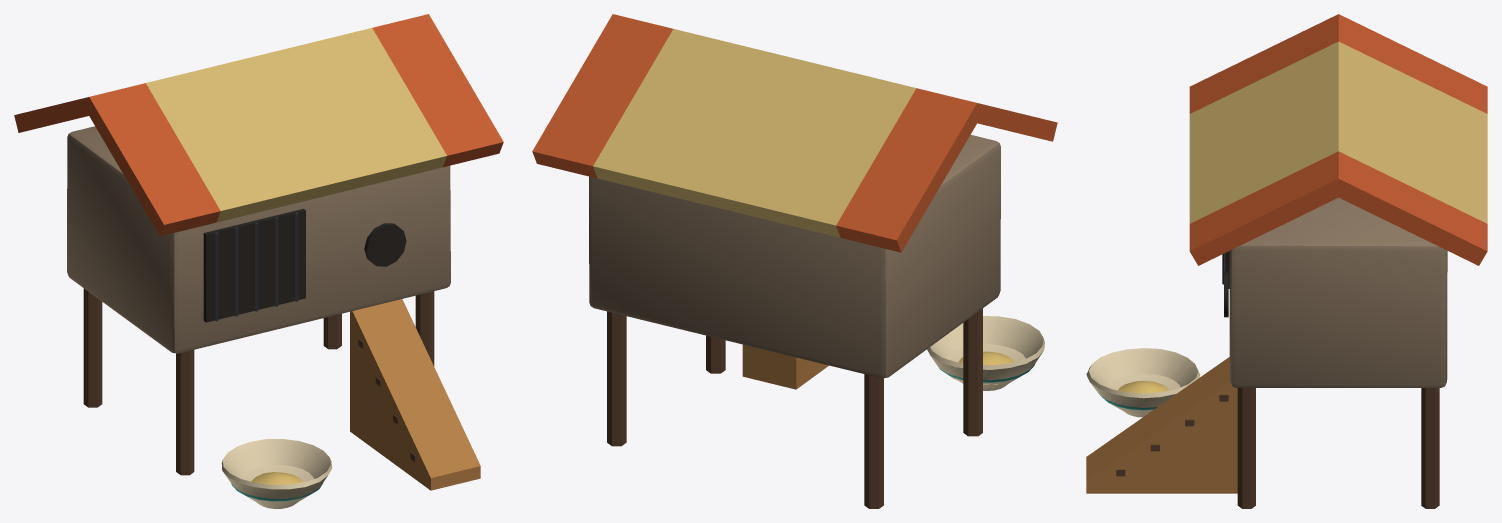
File: deco_critter_hutch.fbx
The picture shows the model from 3 angles, left to right: view 1: azimuth 30°, elevation 25°; view 2: azimuth 150°, elevation 25°; view 3: azimuth 270°, elevation 25°; orthographic projection. The views are drawn at different scales.
Parts seen in each view (by area): view 1: CritterHutch_Roof, CritterHutch_Box, CritterHutch_Ramp, CritterHutch_Legs, CritterHutch_FeedBowl; view 2: CritterHutch_Roof, CritterHutch_Box, CritterHutch_Legs, CritterHutch_FeedBowl, CritterHutch_Ramp; view 3: CritterHutch_Roof, CritterHutch_Box, CritterHutch_Ramp, CritterHutch_FeedBowl, CritterHutch_Legs.
Boxes of the visible parts, bbox=[...] form: CritterHutch_Roof: bbox=[14, 14, 503, 236]; CritterHutch_Box: bbox=[67, 126, 450, 353]; CritterHutch_Ramp: bbox=[350, 299, 480, 490]; CritterHutch_Legs: bbox=[83, 288, 434, 475]; CritterHutch_FeedBowl: bbox=[221, 439, 332, 508]; CritterHutch_Roof: bbox=[532, 14, 1057, 252]; CritterHutch_Box: bbox=[589, 135, 1000, 378]; CritterHutch_Legs: bbox=[607, 308, 982, 508]; CritterHutch_FeedBowl: bbox=[927, 316, 1044, 390]; CritterHutch_Ramp: bbox=[742, 344, 828, 389]; CritterHutch_Roof: bbox=[1189, 14, 1487, 265]; CritterHutch_Box: bbox=[1222, 197, 1447, 387]; CritterHutch_Ramp: bbox=[1086, 357, 1237, 493]; CritterHutch_FeedBowl: bbox=[1086, 348, 1200, 417]; CritterHutch_Legs: bbox=[1237, 388, 1439, 508].
Bounding box in the file's own units: 170 × 169 × 175.
